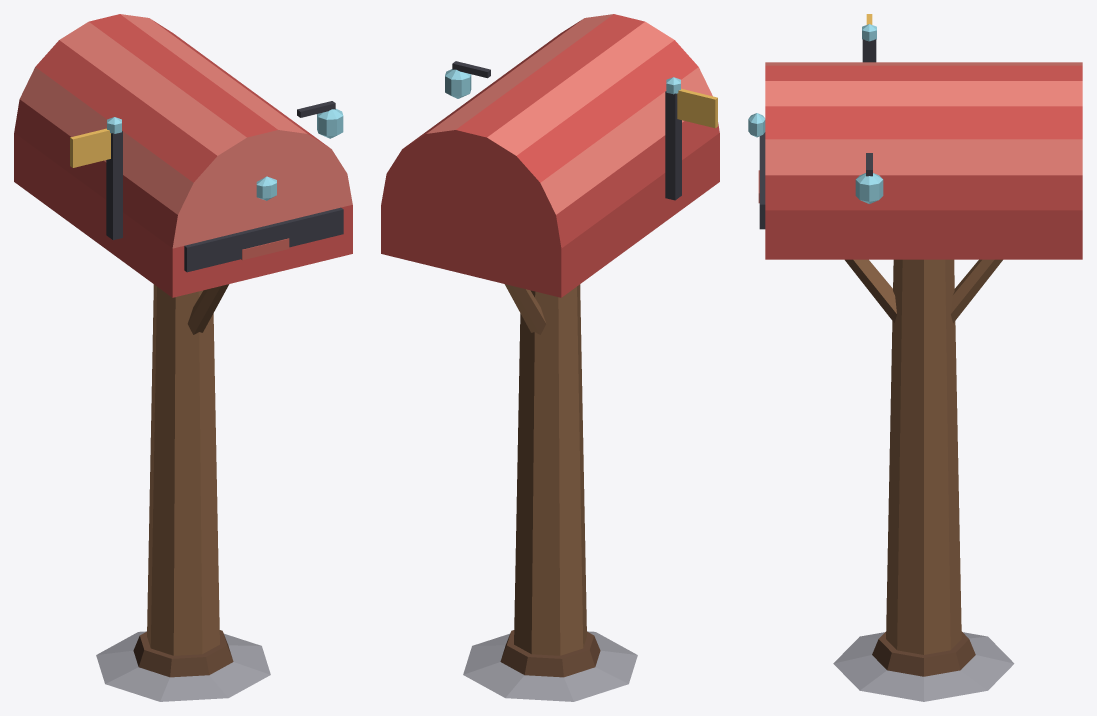
Rendered from deco_furn_mailbox.obj.
The picture shows the model from 3 angles, left to right: view 1: azimuth 30°, elevation 25°; view 2: azimuth 150°, elevation 25°; view 3: azimuth 270°, elevation 25°; orthographic projection.
Parts seen in each view (by area): view 1: deco_furn_mailbox; view 2: deco_furn_mailbox; view 3: deco_furn_mailbox.
Part boxes in pixels (x1=…): deco_furn_mailbox: x1=14, y1=14, x2=352, y2=701; deco_furn_mailbox: x1=381, y1=14, x2=719, y2=701; deco_furn_mailbox: x1=748, y1=14, x2=1082, y2=701.
Size of the model in its own units: 0.6903 by 1.49 by 0.7371.
Materials: 1 (1 with a texture image).
